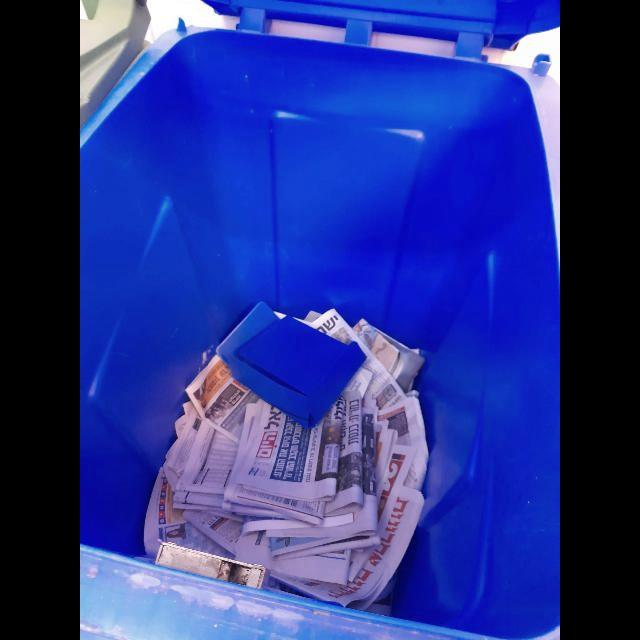cardboard: (213, 301, 368, 431)
paper: (273, 485, 426, 605), (232, 394, 346, 499), (303, 306, 407, 410), (236, 494, 381, 565), (146, 465, 232, 564), (162, 400, 235, 511), (184, 353, 259, 447), (234, 530, 350, 584), (173, 420, 236, 514), (375, 390, 432, 491), (363, 420, 413, 526), (352, 317, 424, 389), (322, 391, 362, 516), (223, 480, 326, 526), (182, 509, 246, 556), (360, 408, 376, 496)
